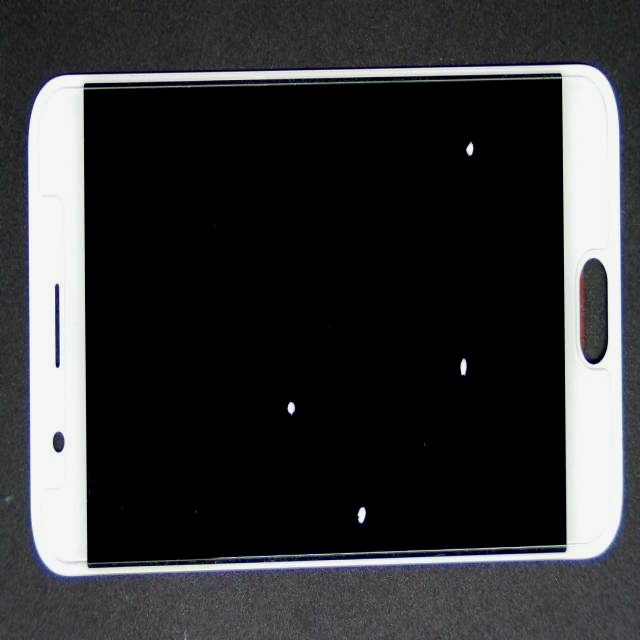stain: (253, 143, 640, 531), (207, 294, 564, 640), (171, 222, 456, 600), (246, 20, 640, 209)
